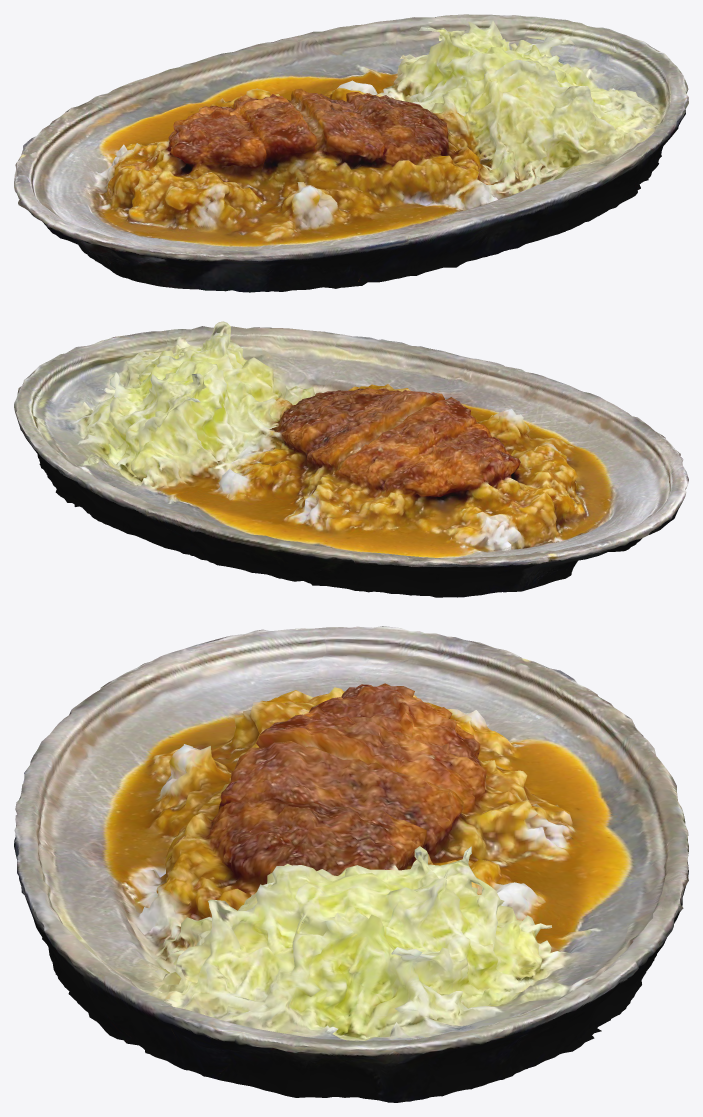
Rendered from KanazawaCurry.glb.
3 renders of one model, top to bottom at view 1: azimuth 30°, elevation 25°; view 2: azimuth 150°, elevation 25°; view 3: azimuth 270°, elevation 25°, orthographic. The views are drawn at different scales.
Parts seen in each view (by area): view 1: f4beb4bc-6f8b-4dae-ae43-1d53c1346540; view 2: f4beb4bc-6f8b-4dae-ae43-1d53c1346540; view 3: f4beb4bc-6f8b-4dae-ae43-1d53c1346540.
Part boxes in pixels (x1,y1,x2,y2): f4beb4bc-6f8b-4dae-ae43-1d53c1346540: (14, 14, 688, 292); f4beb4bc-6f8b-4dae-ae43-1d53c1346540: (14, 321, 688, 597); f4beb4bc-6f8b-4dae-ae43-1d53c1346540: (14, 626, 688, 1102).
Bounding box in the file's own units: 0.3329 × 0.0508 × 0.2207.
Materials: 1 (1 with a texture image).
